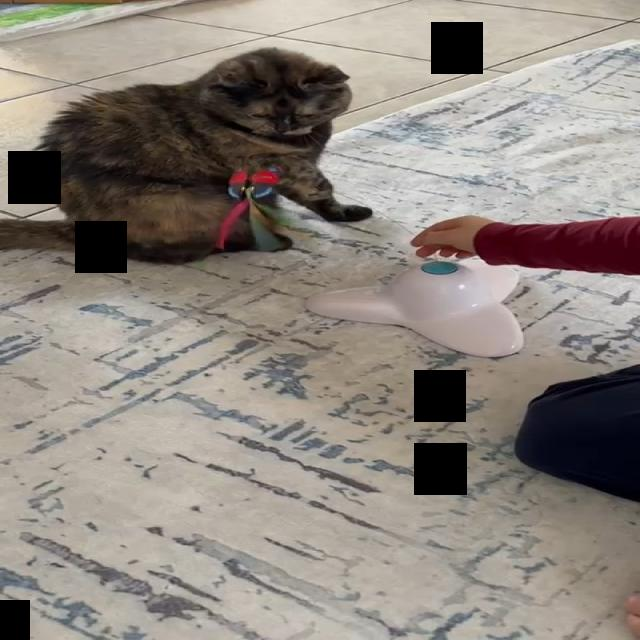authorized: (0, 45, 373, 264)
